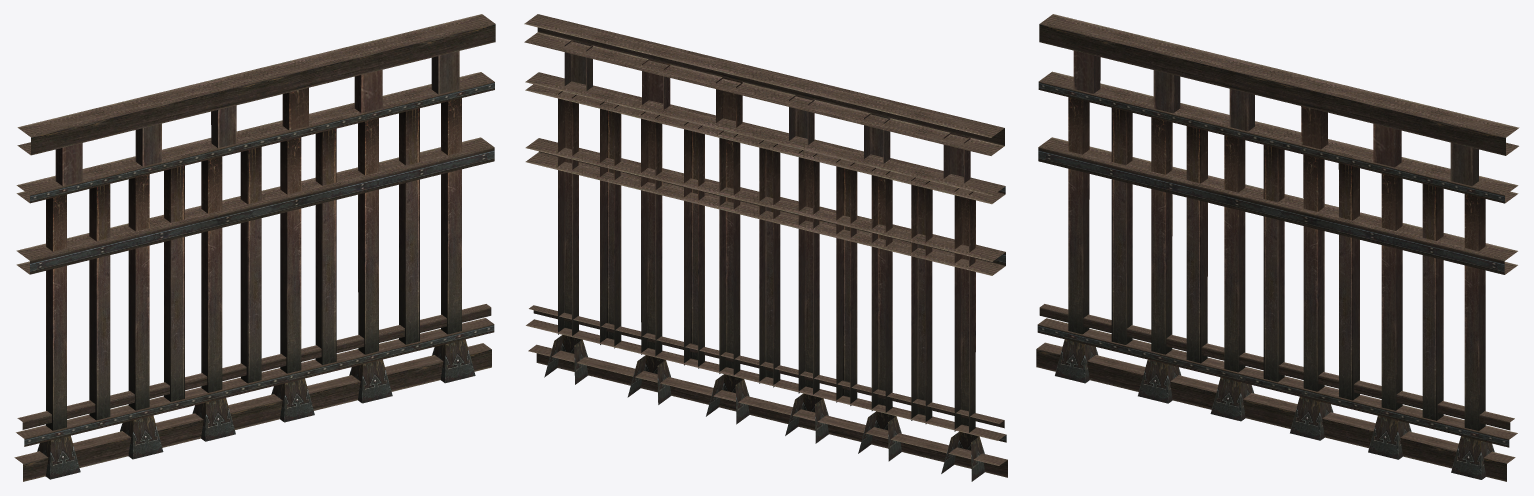
File: fb_jianyu_tielan03.FBX
3 views of the same model, side by side, from view 1: azimuth 30°, elevation 25°; view 2: azimuth 150°, elevation 25°; view 3: azimuth 330°, elevation 25° (orthographic).
Visible parts, largest first — view 1: fb_jianyu_tielan03; view 2: fb_jianyu_tielan03; view 3: fb_jianyu_tielan03.
Boxes of the visible parts, <box> form: fb_jianyu_tielan03: <box>14,14,495,481</box>; fb_jianyu_tielan03: <box>524,14,1007,481</box>; fb_jianyu_tielan03: <box>1036,14,1519,481</box>.
Size of the model in its own units: 938 by 656 by 60.82.
